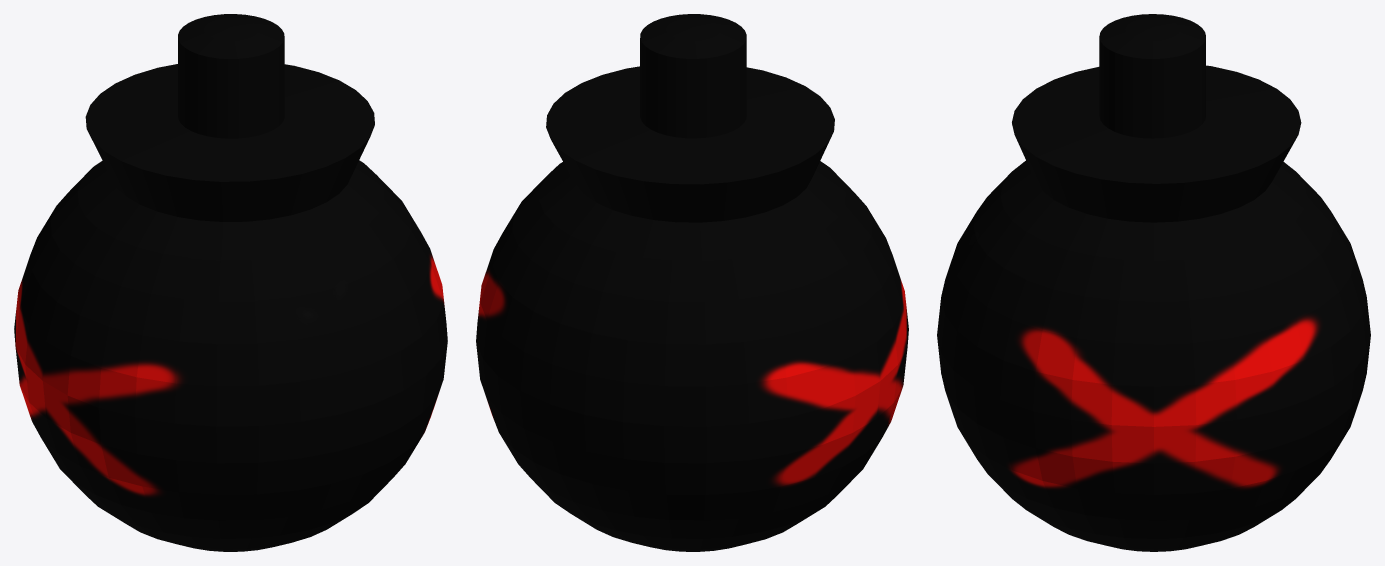
Rendered from bomb.fbx.
3 views of the same model, side by side, from view 1: azimuth 30°, elevation 25°; view 2: azimuth 150°, elevation 25°; view 3: azimuth 270°, elevation 25° (orthographic).
Parts seen in each view (by area): view 1: Sphere; view 2: Sphere; view 3: Sphere.
Boxes of the visible parts, <box> form: Sphere: <box>14,14,447,551</box>; Sphere: <box>476,14,908,551</box>; Sphere: <box>937,14,1370,551</box>.
Bounding box in the file's own units: 200 × 257 × 200.
Materials: 1 (1 with a texture image).
